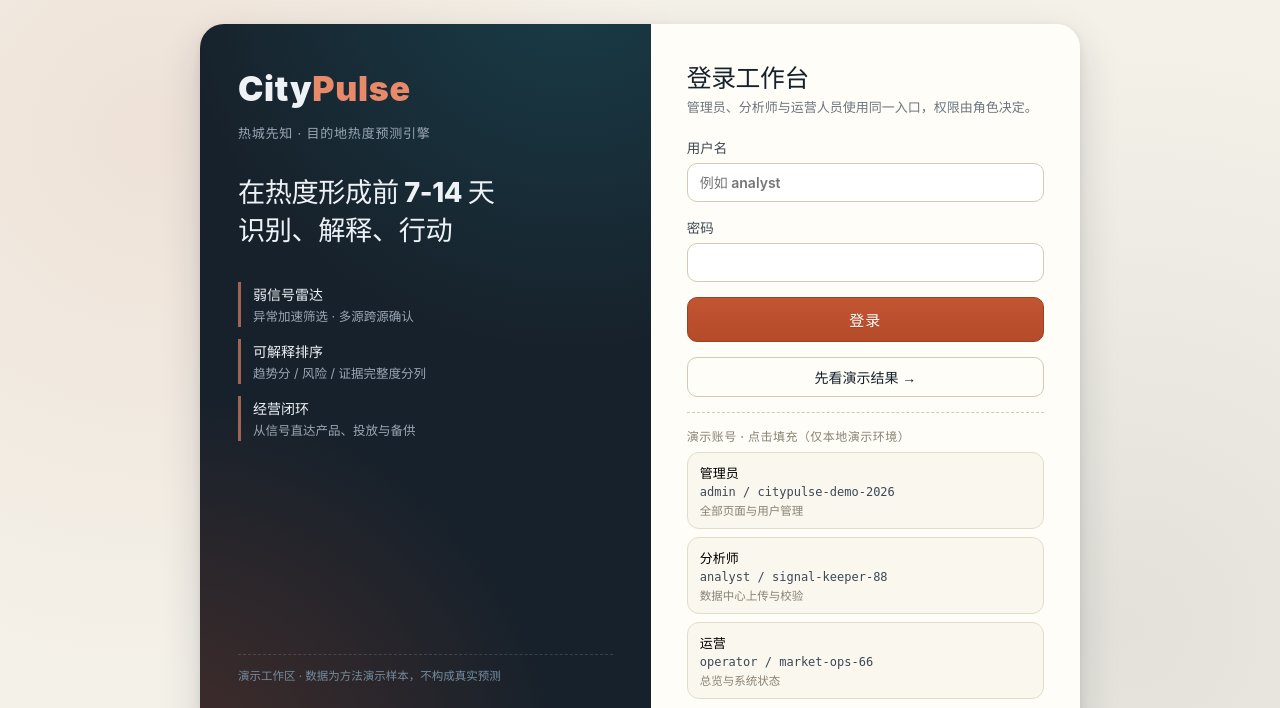
maps INVALID_CREDENTIALS to a friendly message
In the field labelled "用户名": (865, 182) [687, 163, 1044, 202], type "analyst"
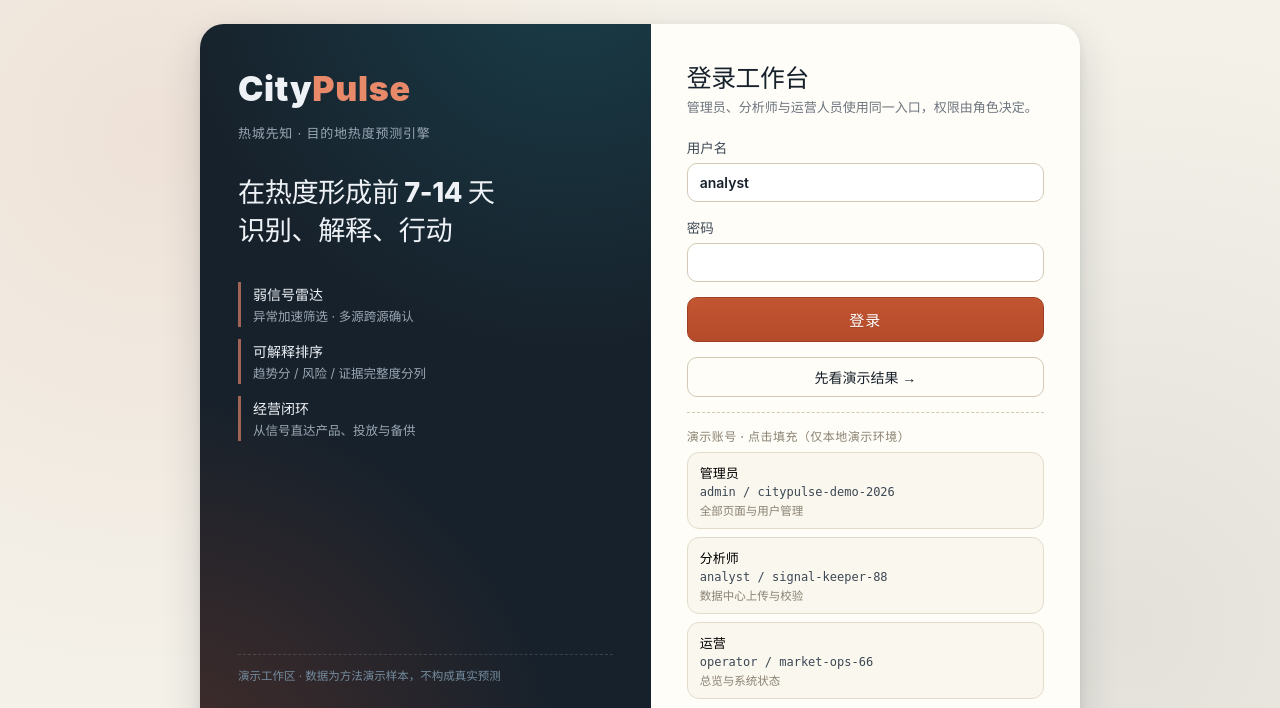
In the password field labelled "密码": (865, 262) [687, 243, 1044, 282], type "wrong-pass-1"
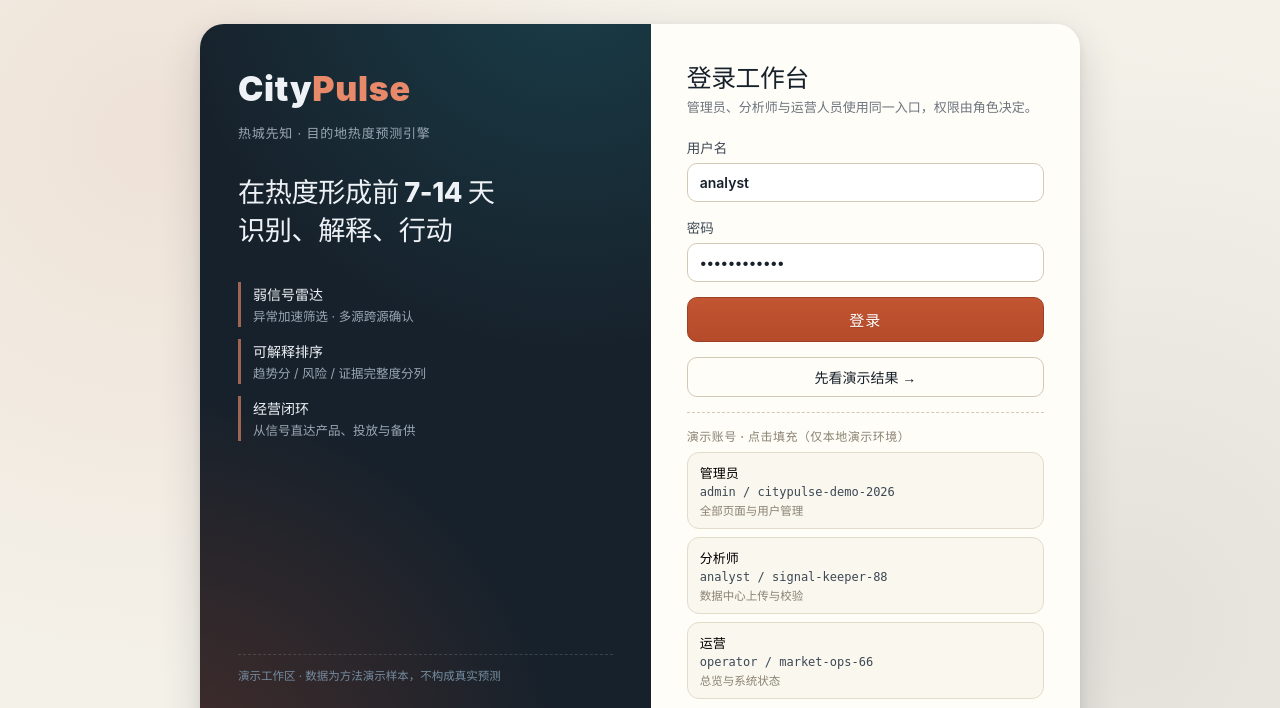
Click the button "登录": (865, 319) [687, 297, 1044, 342]
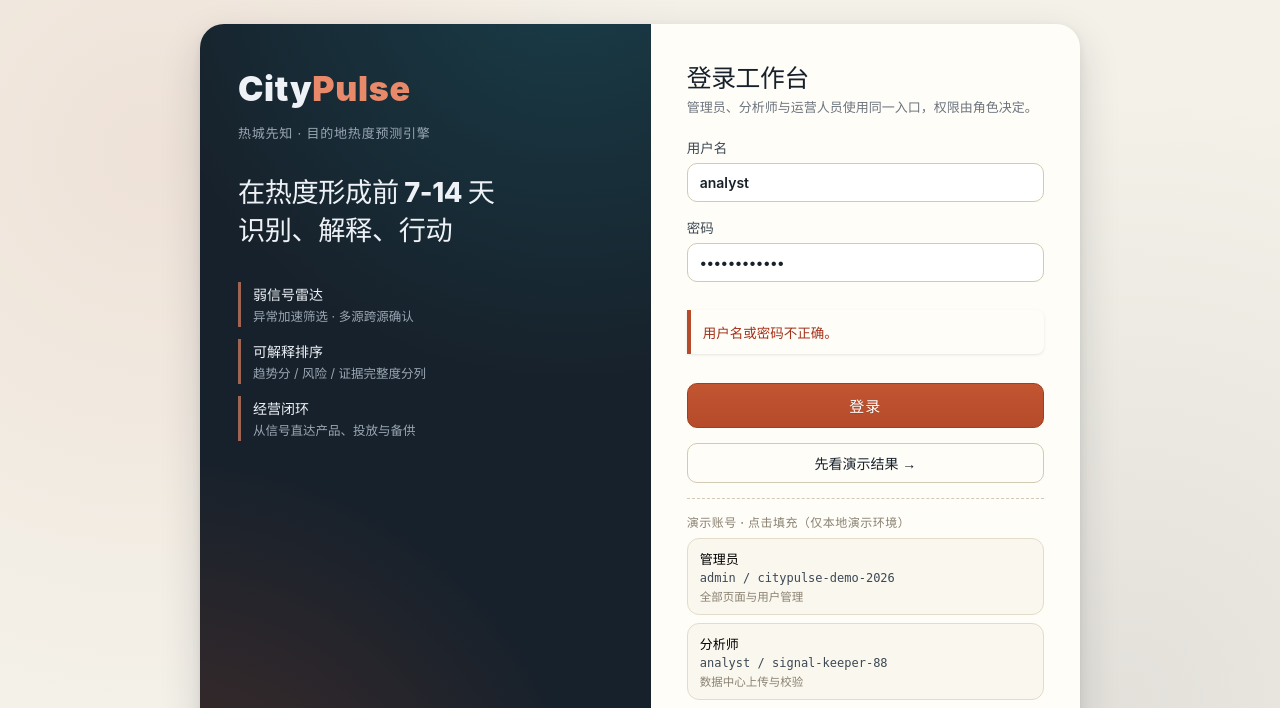
Check: the text "用户名或密码不正确。" is shown, box [687, 310, 1044, 354]
